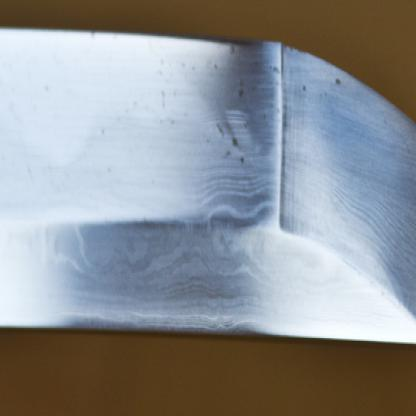knife: (0, 21, 415, 356)
